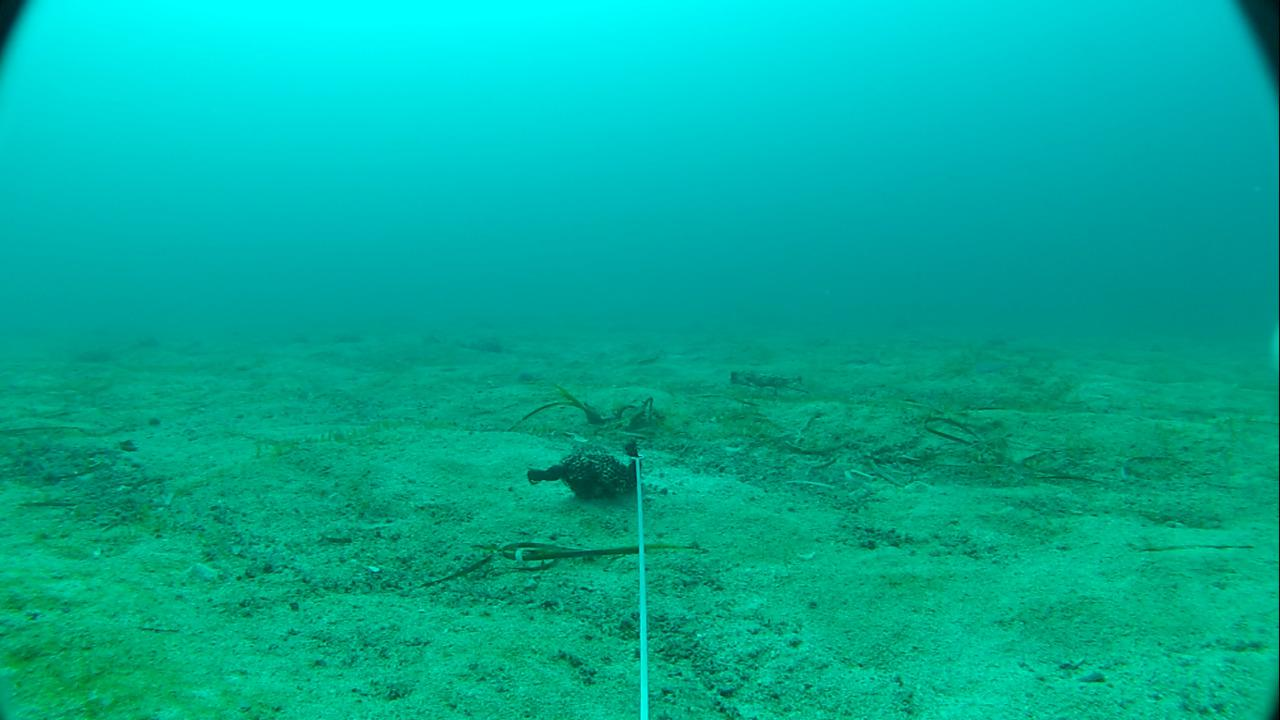dactylopterus: (721, 363, 809, 397)
